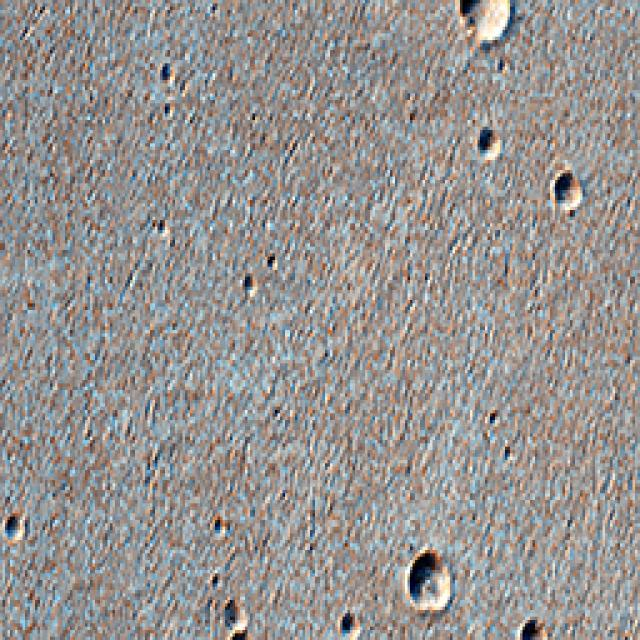Crater: (198, 570, 290, 640), (395, 534, 465, 624), (435, 0, 540, 57), (465, 93, 523, 180), (545, 156, 590, 226)
